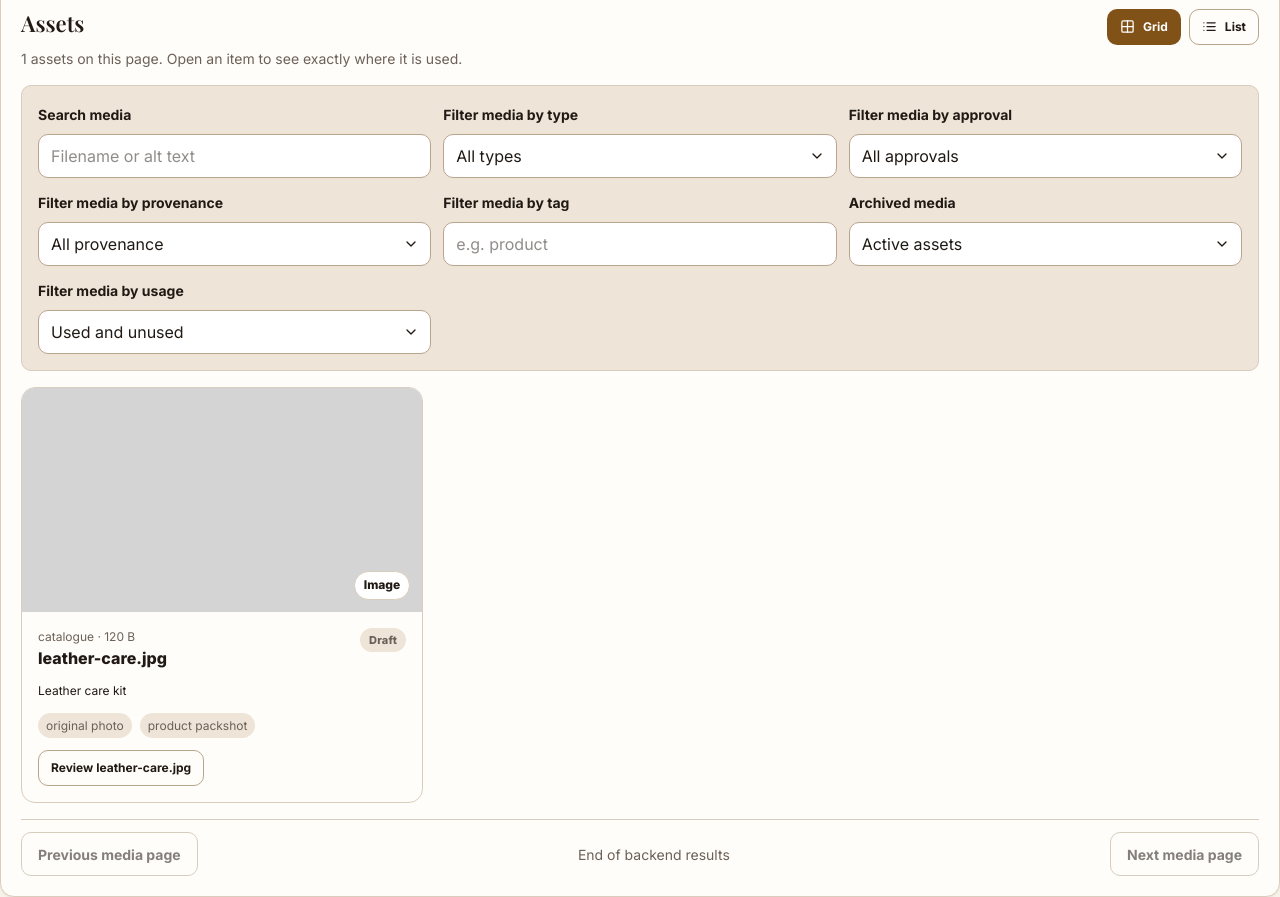
Test case: MediaLibrary › keeps review controls Admin-only even for an operator with media:write, who can still archive
The image size is (1280, 897).
(page scrolled)
expect the heading "leather-care.jpg" is shown: met, box [38,646,167,670]
Click the button "Review leather-care.jpg" at (121, 768), box [38,750,204,786]
(page scrolled)
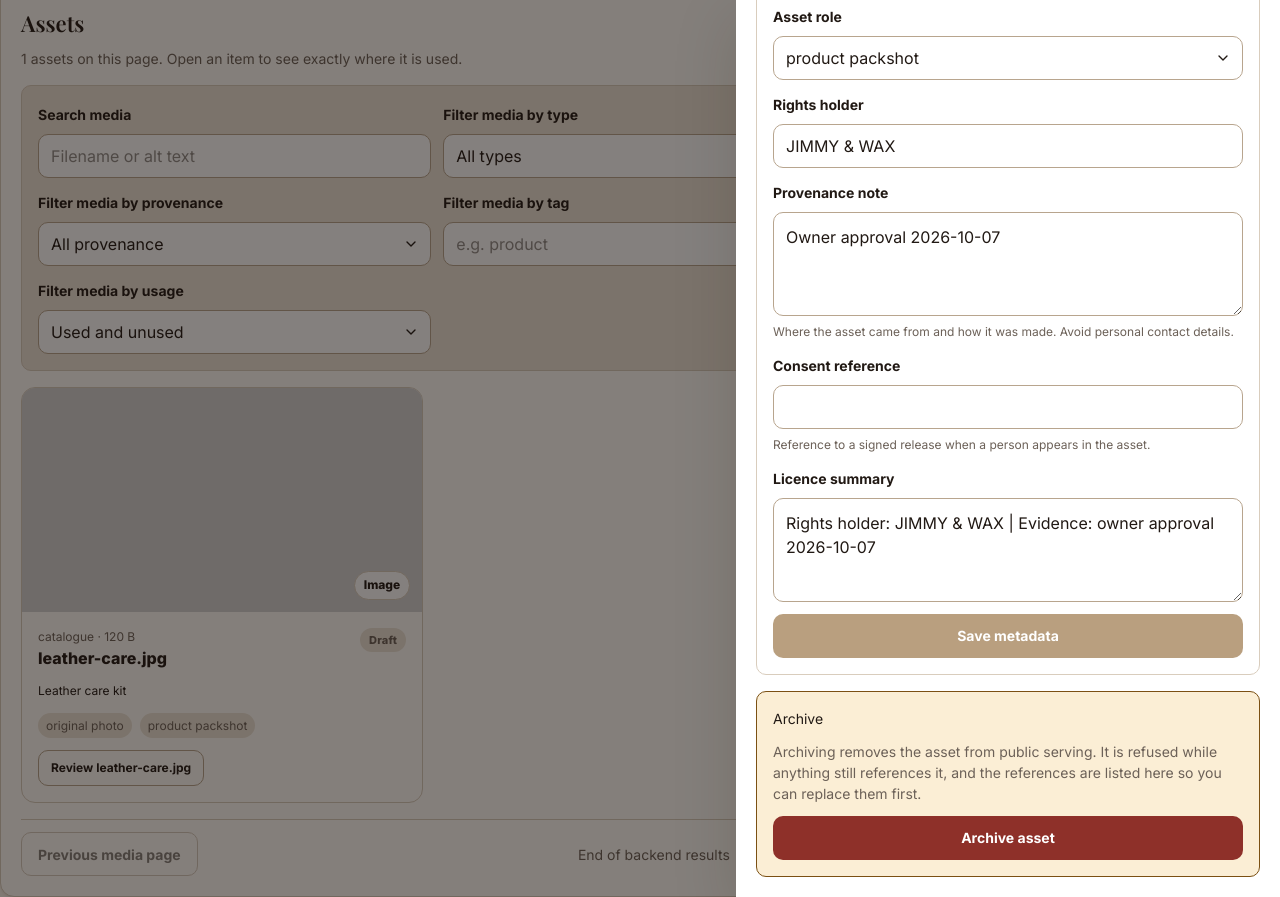
expect the button "Archive asset" is shown: met, box [773,816,1243,860]
